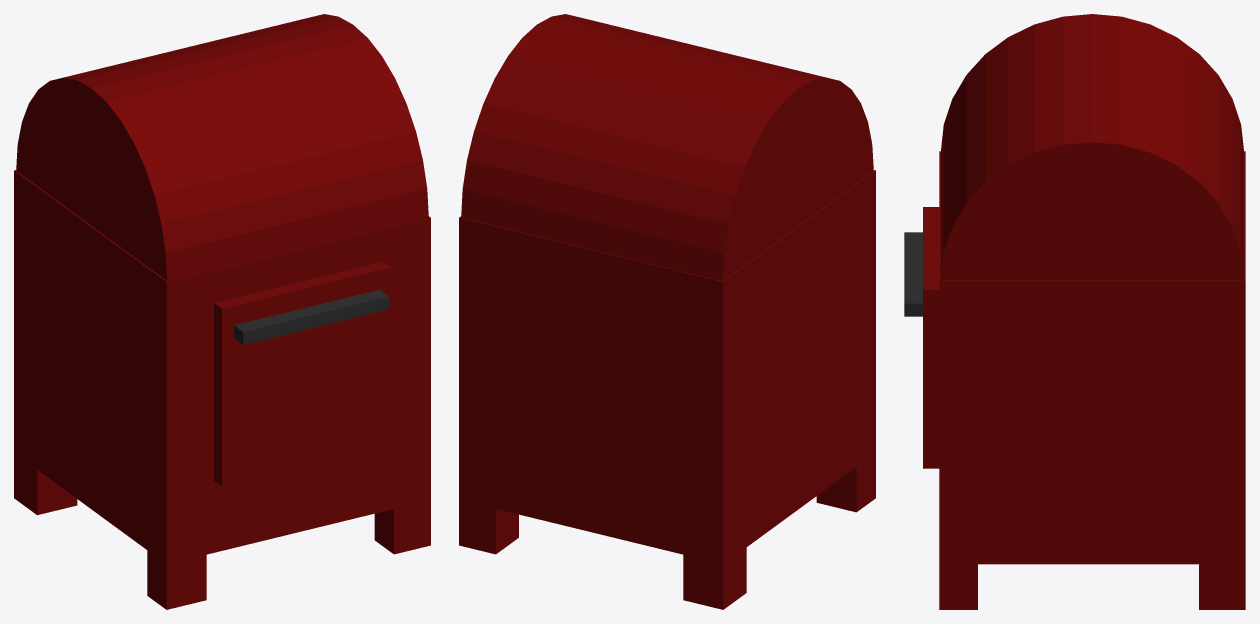
The model's file is Mailbox.fbx.
The picture shows the model from 3 angles, left to right: view 1: azimuth 30°, elevation 25°; view 2: azimuth 150°, elevation 25°; view 3: azimuth 270°, elevation 25°; orthographic projection.
Parts seen in each view (by area): view 1: Cube.002; view 2: Cube.002; view 3: Cube.002.
Part boxes in pixels (x1,y1,x2,y2): Cube.002: (14,14,430,609); Cube.002: (459,14,875,609); Cube.002: (904,14,1245,609).
Size of the model in its own units: 95.63 by 161 by 107.
